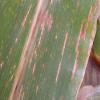Corn Gray leaf spot: (0, 1, 100, 100)
